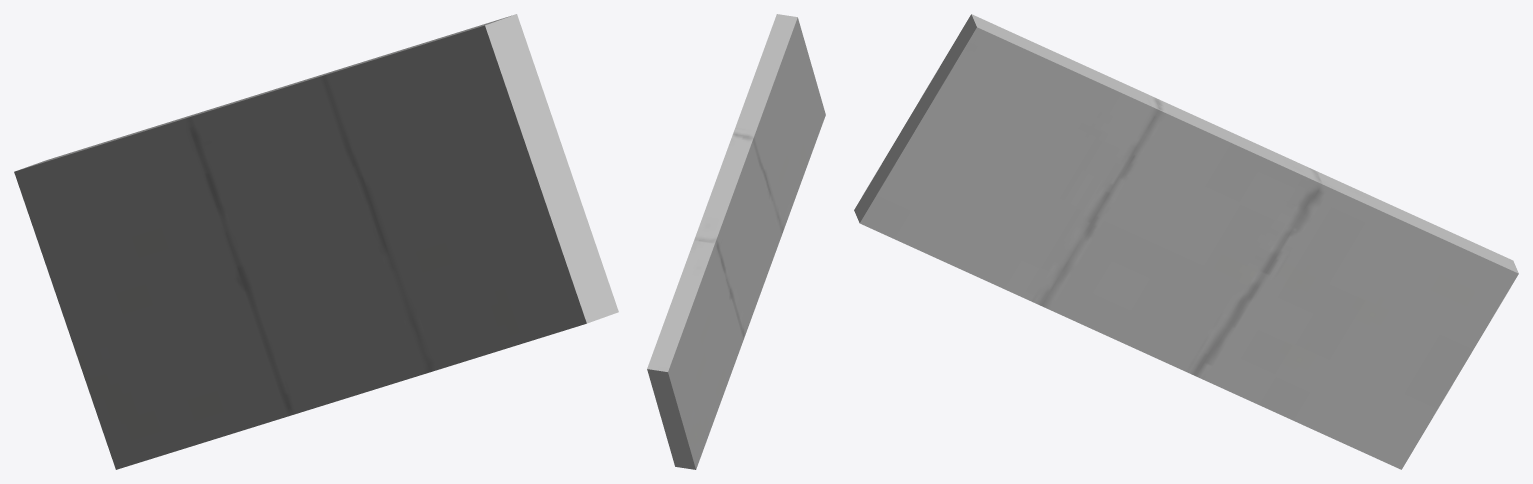
The model's file is fan_wheel__fan_blade_5.glb.
3 views of the same model, side by side, from view 1: azimuth 30°, elevation 25°; view 2: azimuth 150°, elevation 25°; view 3: azimuth 270°, elevation 25° (orthographic). The views are drawn at different scales.
Parts seen in each view (by area): view 1: geometry_0; view 2: geometry_0; view 3: geometry_0.
Part boxes in pixels (x1,y1,x2,y2): geometry_0: (14, 14, 618, 469); geometry_0: (647, 14, 825, 469); geometry_0: (854, 14, 1518, 469).
Size of the model in its own units: 0.038 by 0.132 by 0.1673.
Materials: 1 (1 with a texture image).
